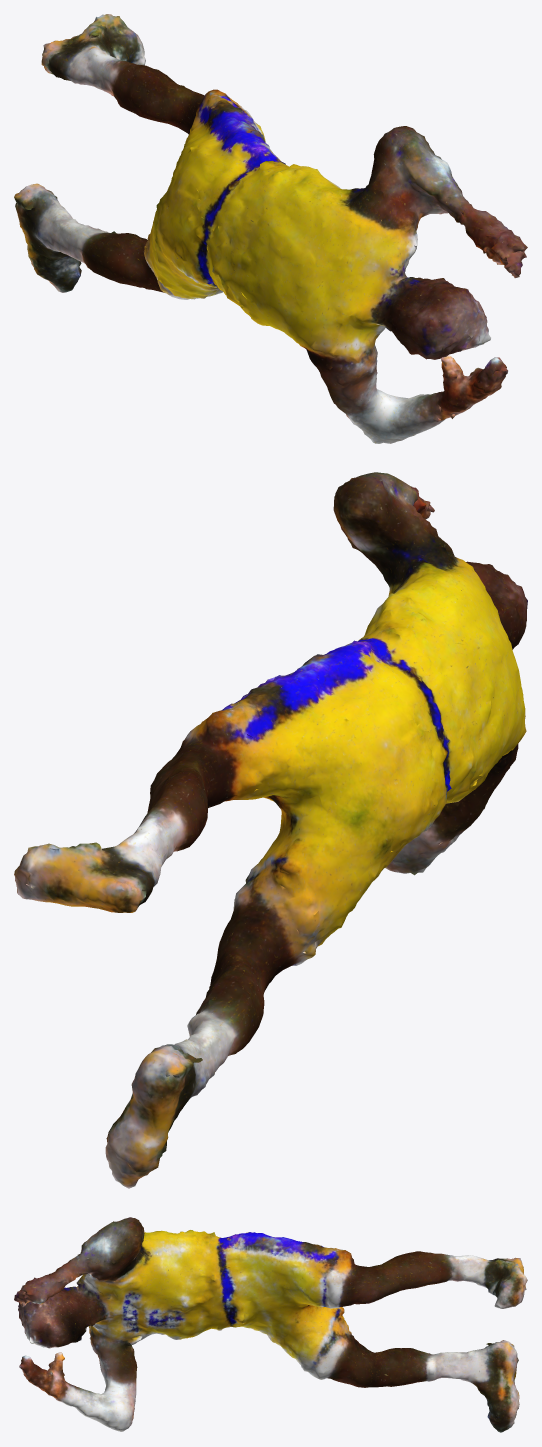
The model's file is lebron_before.gltf.
The picture shows the model from 3 angles, top to bottom: view 1: azimuth 30°, elevation 25°; view 2: azimuth 150°, elevation 25°; view 3: azimuth 270°, elevation 25°; orthographic projection. The views are drawn at different scales.
Visible parts, largest first — view 1: base; view 2: base; view 3: base.
Part boxes in pixels (left/top/right/bottom): base: left=14, top=14, right=527, bottom=443; base: left=14, top=472, right=527, bottom=1188; base: left=14, top=1217, right=527, bottom=1432.
Bounding box in the file's own units: 0.3969 × 0.6482 × 1.26.
Materials: 1 (1 with a texture image).
